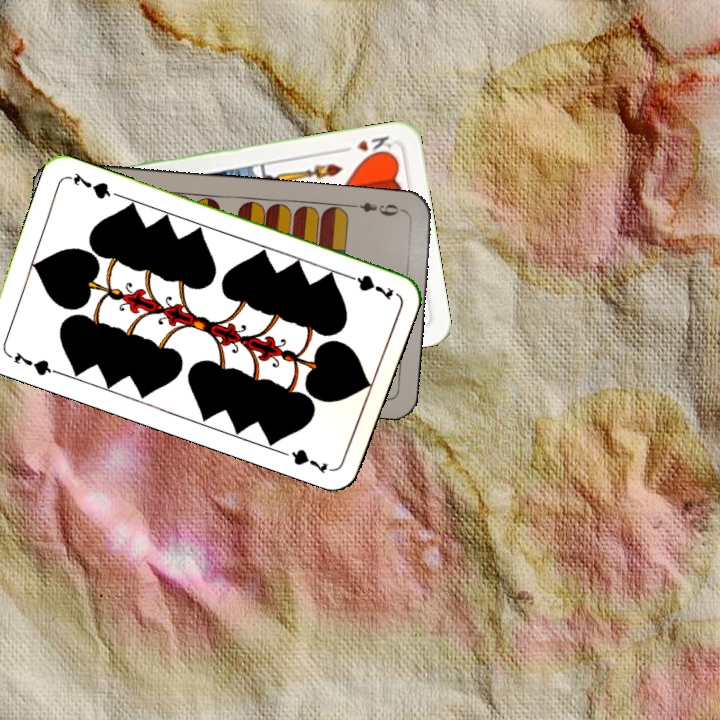E9: (348, 198, 407, 219)
G7: (339, 269, 397, 303), (10, 348, 61, 379)
HK: (336, 132, 394, 160)
